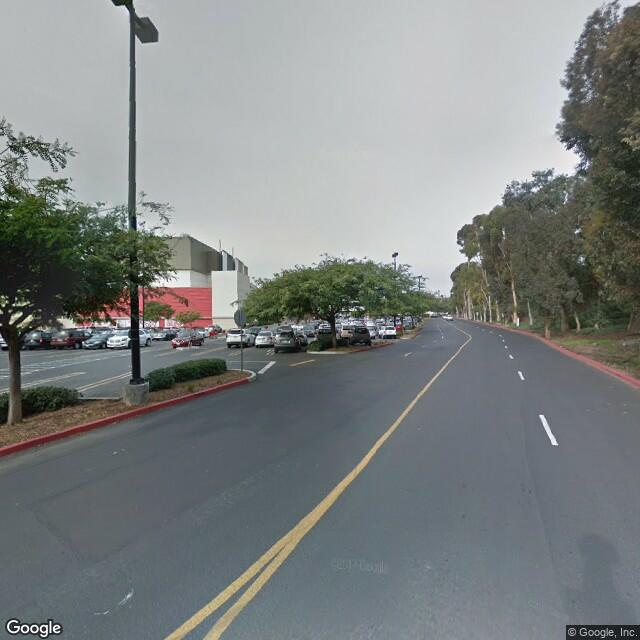litter: (108, 418, 119, 427)
